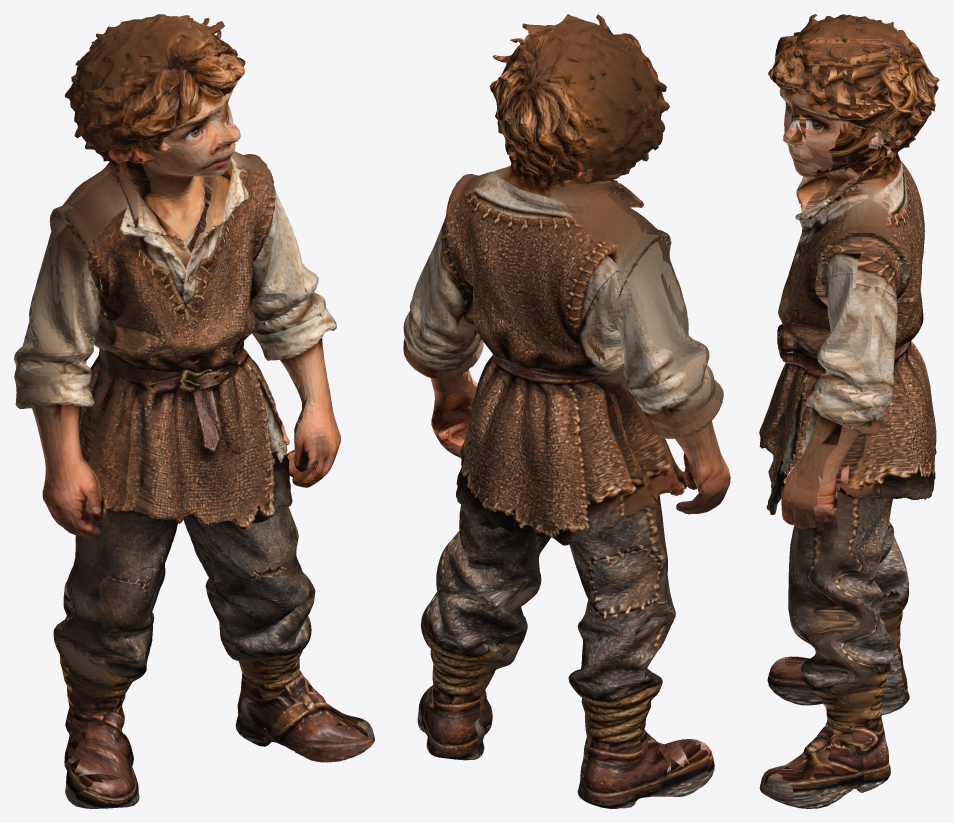
File: garoto_medieval.glb
The picture shows the model from 3 angles, left to right: view 1: azimuth 30°, elevation 25°; view 2: azimuth 150°, elevation 25°; view 3: azimuth 270°, elevation 25°; orthographic projection. The views are drawn at different scales.
Parts seen in each view (by area): view 1: tmpc61729ln.ply; view 2: tmpc61729ln.ply; view 3: tmpc61729ln.ply.
Boxes of the visible parts, box(x1,y1,x2,y2) form: tmpc61729ln.ply: box(14, 14, 374, 808); tmpc61729ln.ply: box(403, 14, 730, 808); tmpc61729ln.ply: box(759, 14, 939, 808).
Size of the model in its own units: 0.88 by 1.96 by 0.4525.
2 materials, 2 textured.
